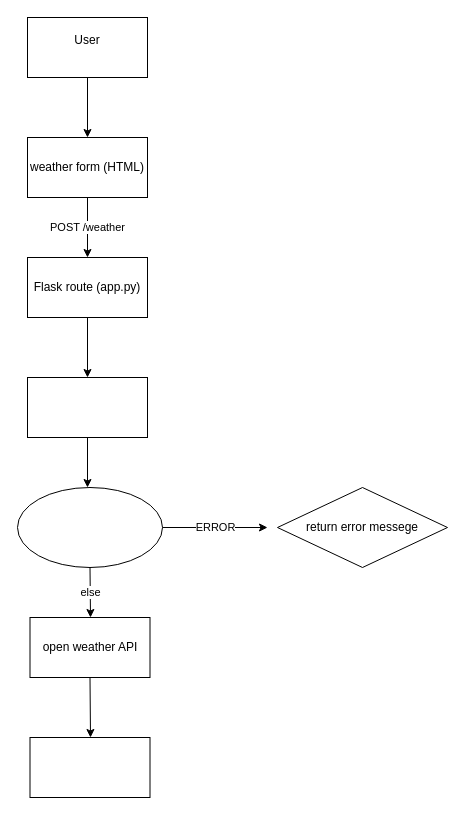
Image size: 465x815. Some labels were removed from this diagram. Here are the shapes that lost their labels. From the top down, the centre of each, then its label:
At (x=87, y=407): "get_weather_into (city_name):".
At (x=89, y=527): "Error Handling".
At (x=89, y=767): "Get JSON Return INFO".
